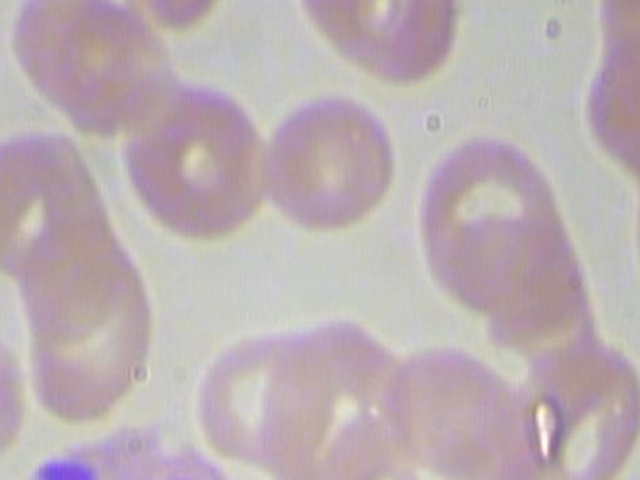RBC: (408, 121, 569, 307), (16, 227, 162, 426), (121, 80, 274, 247), (188, 318, 347, 474), (257, 76, 410, 236), (283, 0, 468, 102), (0, 315, 34, 479), (96, 0, 244, 31), (0, 129, 7, 318), (585, 0, 640, 2)
WBC: (0, 417, 271, 480)
